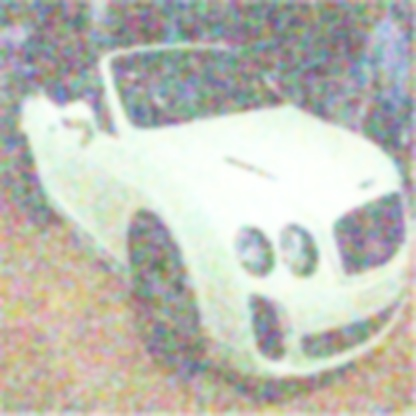Vehicle: (18, 41, 414, 385)
